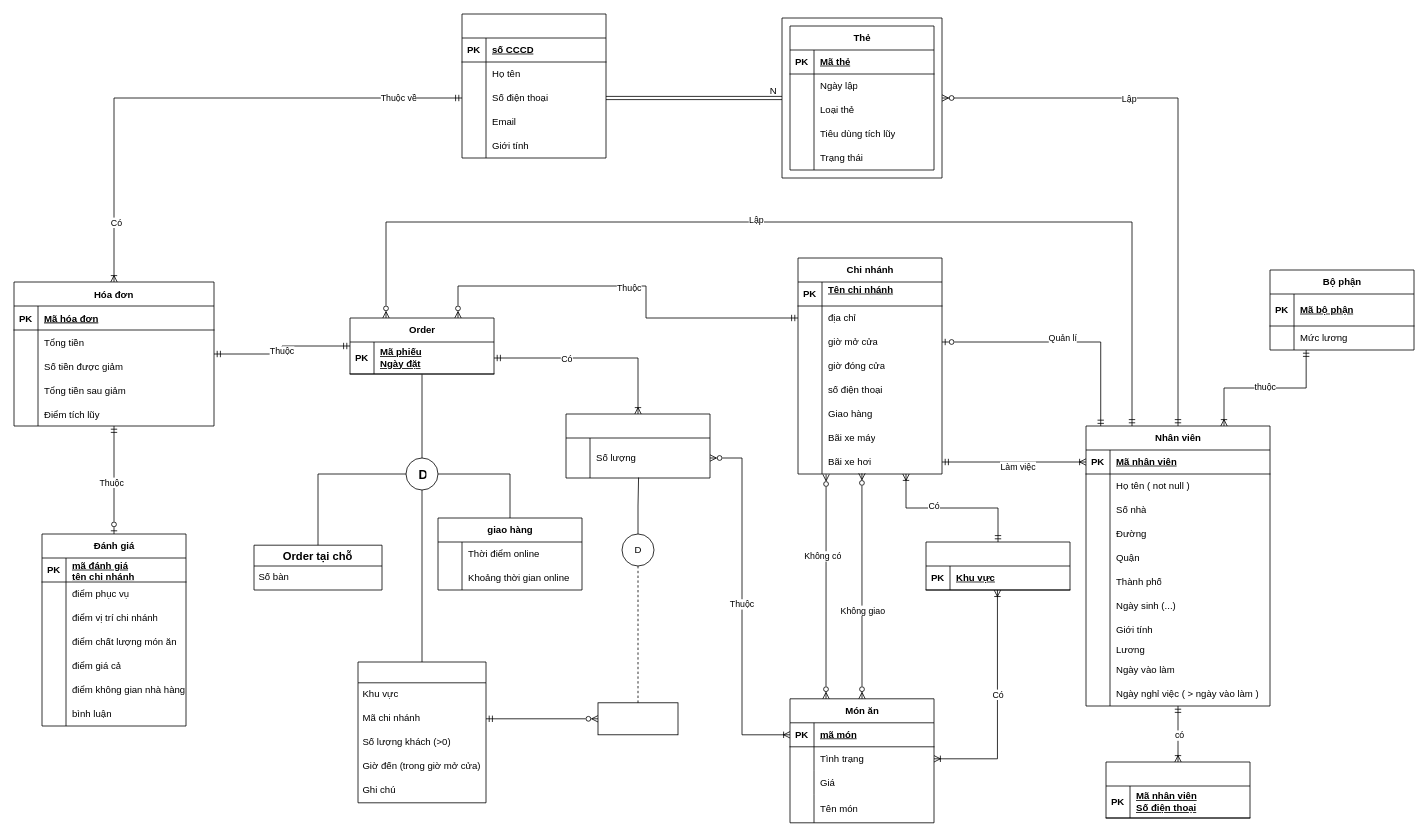
This 1428x837 diagram has some shape labels left out. The shapes that lost their labels are listed below. From the top down, each one's box as (x1, y1, x2, y2) in pixels, then its label:
(461, 13, 606, 158): Khách hàng
(565, 413, 710, 478): MaMon_PhieuDat
(925, 541, 1070, 590): Thực đơn
(357, 661, 486, 803): đặt bàn online
(597, 702, 678, 735): Món đặt trước
(1105, 761, 1250, 818): DienThoai_NhanVien
